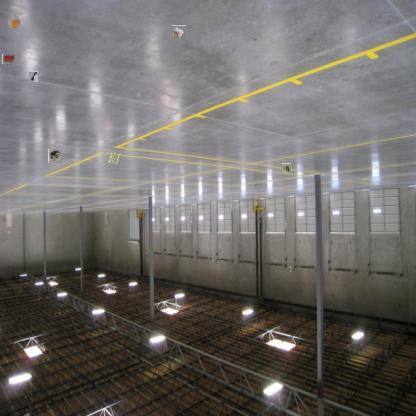dirty: (106, 152, 122, 168), (172, 26, 187, 40), (48, 150, 62, 163), (28, 71, 38, 82), (281, 164, 292, 174)
liquid: (3, 54, 15, 65), (9, 17, 19, 27)
